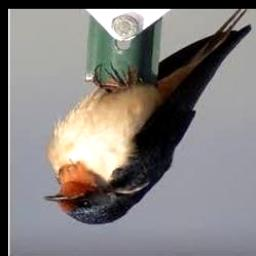Swallow: (43, 9, 253, 226)
